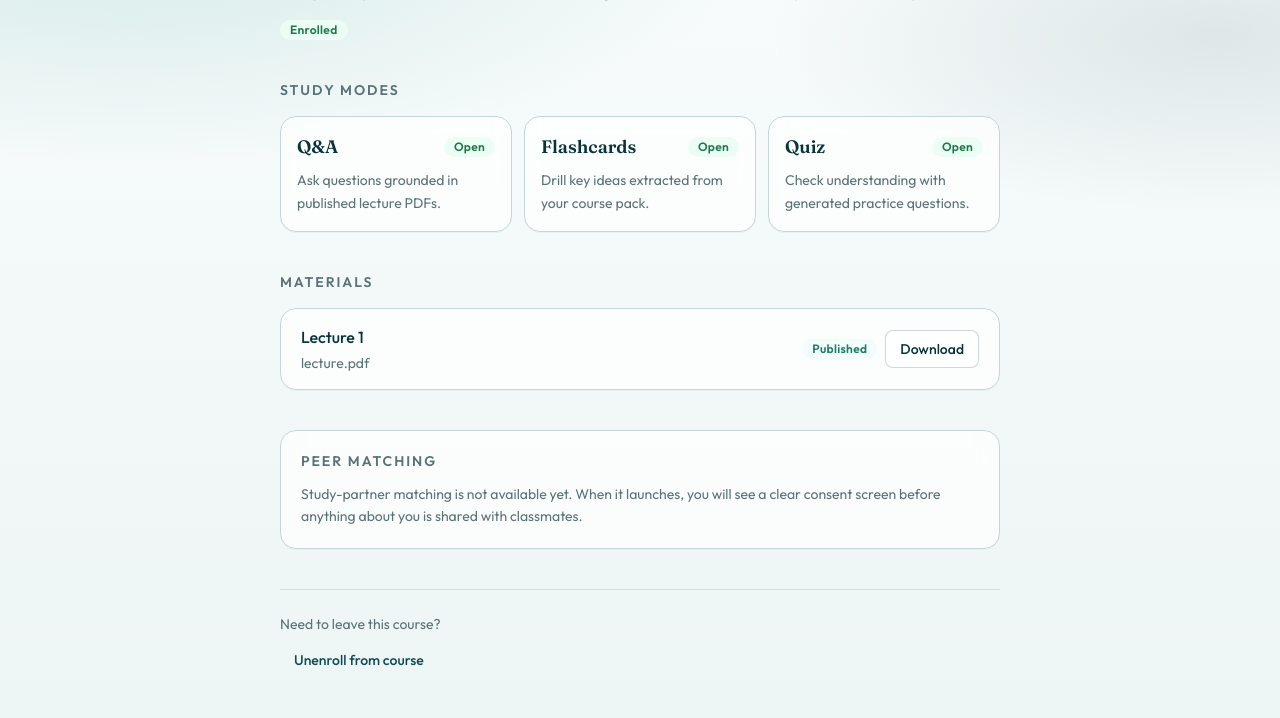
it: material pages › hides materials after the student unenrolls
(page scrolled)
Check: the text "Lecture 1" is shown, box [301,326,364,346]
Click the button "Unenroll from course" at (359, 660), box [280,642,438,678]
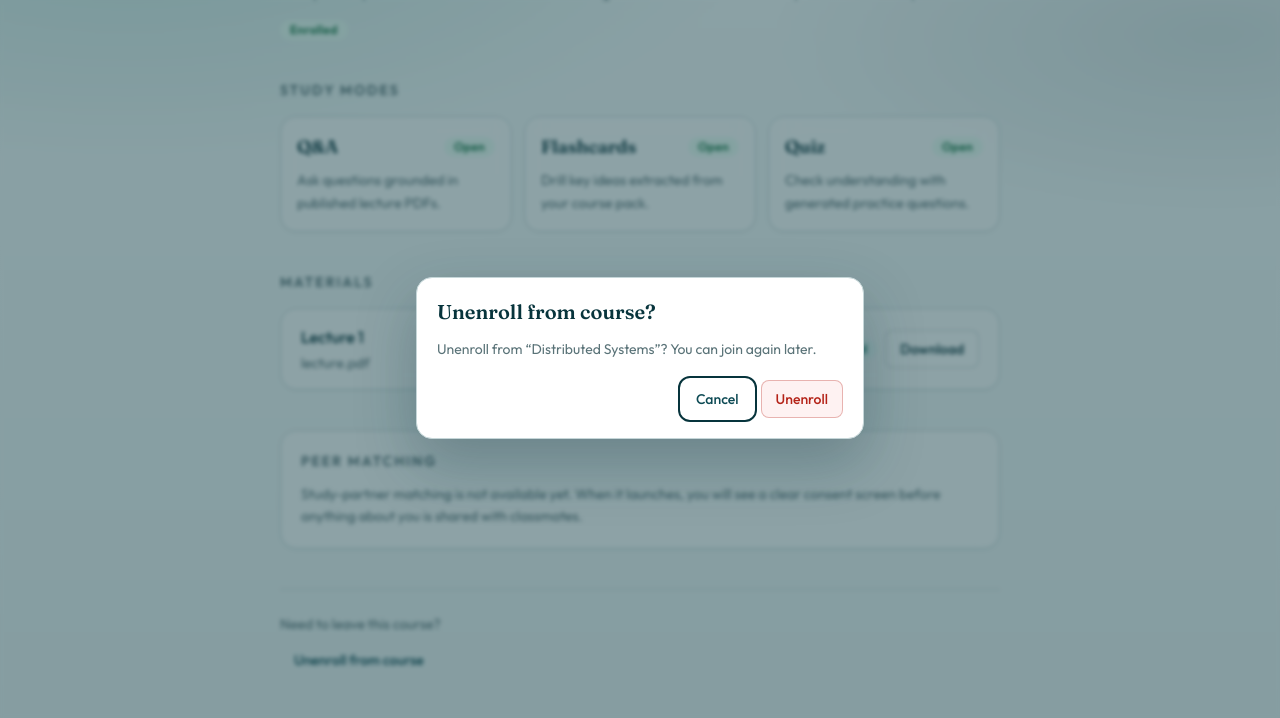
Click the button "Unenroll" at (802, 399), box [760,380,843,418]
(page scrolled)
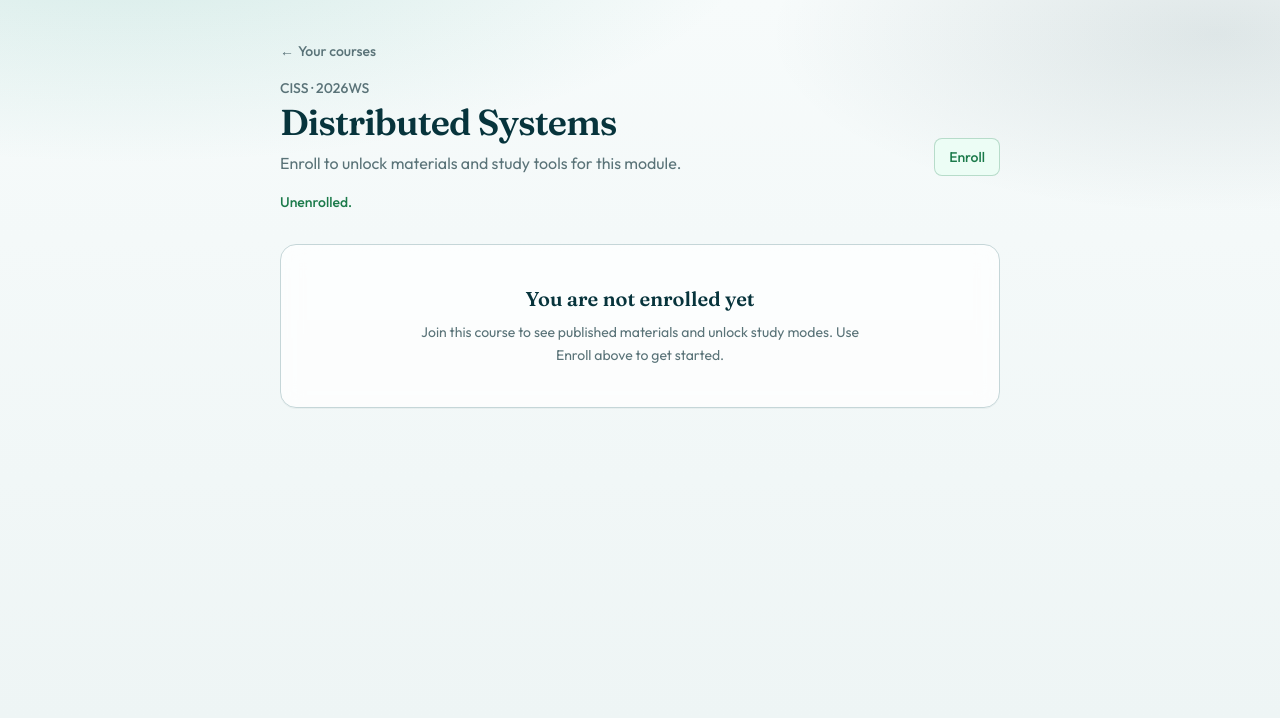
Check: the text "You are not enrolled yet" is shown, box [525,286,755,311]
Check: the button "Lecture 1" is gone
